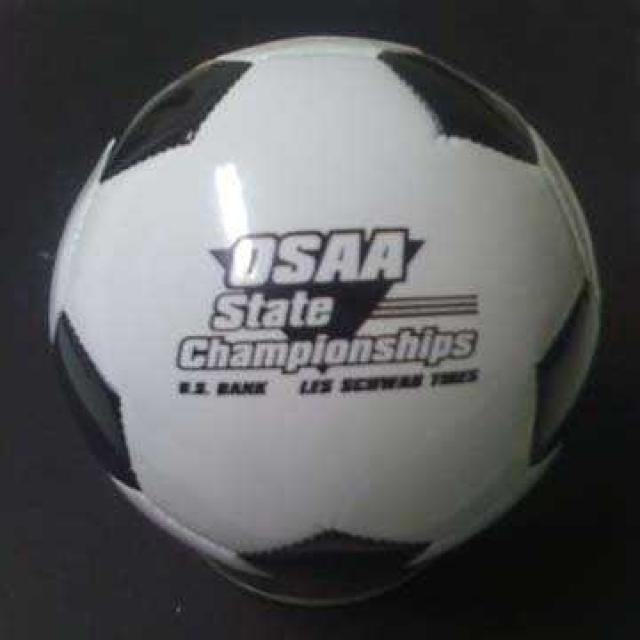ball: (48, 36, 608, 606)
